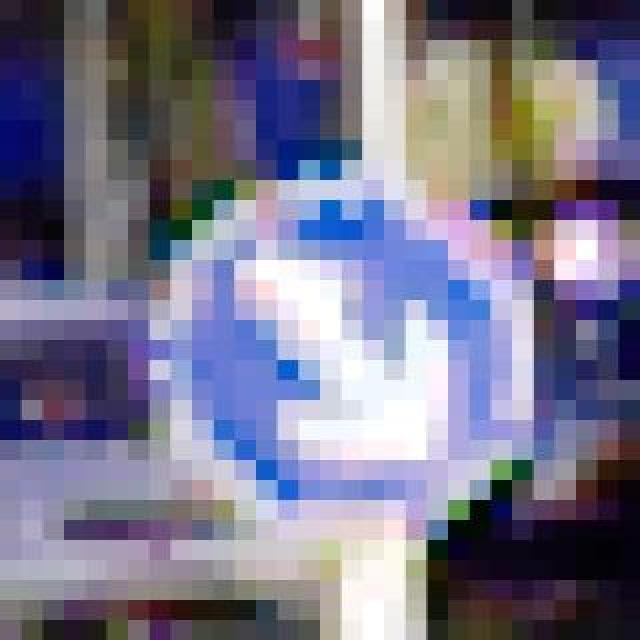keep right: (108, 140, 512, 520)
